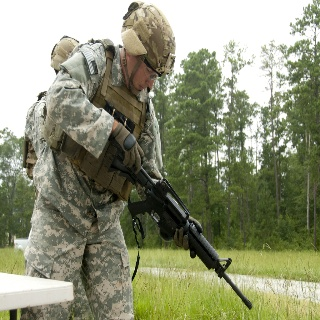rifle: (110, 137, 254, 315)
